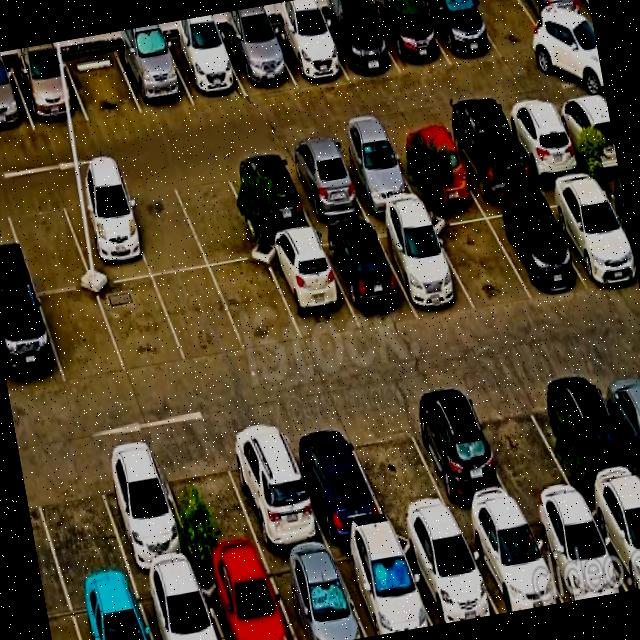empty: (467, 379, 580, 509), (155, 437, 264, 567), (342, 404, 455, 529), (28, 455, 131, 591), (427, 206, 531, 309), (170, 163, 263, 266), (3, 192, 92, 293), (118, 175, 207, 275), (153, 267, 245, 363), (96, 276, 186, 374), (38, 287, 126, 384), (211, 259, 302, 351), (63, 47, 142, 121), (469, 0, 551, 60)
occupied: (401, 390, 520, 522), (219, 420, 328, 555), (91, 445, 196, 577), (281, 415, 389, 543), (540, 367, 640, 496), (481, 195, 584, 298), (522, 501, 627, 602), (538, 179, 637, 286), (262, 233, 359, 342), (459, 512, 563, 613), (330, 535, 432, 637), (318, 223, 417, 328), (372, 215, 474, 315), (396, 526, 498, 625), (58, 183, 151, 285), (263, 548, 366, 640), (197, 558, 295, 640), (441, 113, 535, 198), (224, 153, 314, 239), (281, 144, 368, 227), (387, 124, 477, 203), (332, 135, 420, 215), (500, 101, 586, 182), (0, 291, 65, 395), (134, 569, 222, 640), (318, 6, 400, 80), (369, 0, 450, 74), (115, 40, 194, 113), (165, 34, 246, 105), (585, 486, 640, 590), (11, 56, 88, 130), (267, 18, 348, 87), (551, 92, 618, 171), (420, 0, 501, 65), (220, 27, 296, 96), (593, 360, 640, 469), (67, 580, 152, 640), (521, 0, 596, 49), (593, 174, 633, 254), (0, 65, 34, 136), (576, 0, 593, 28)
